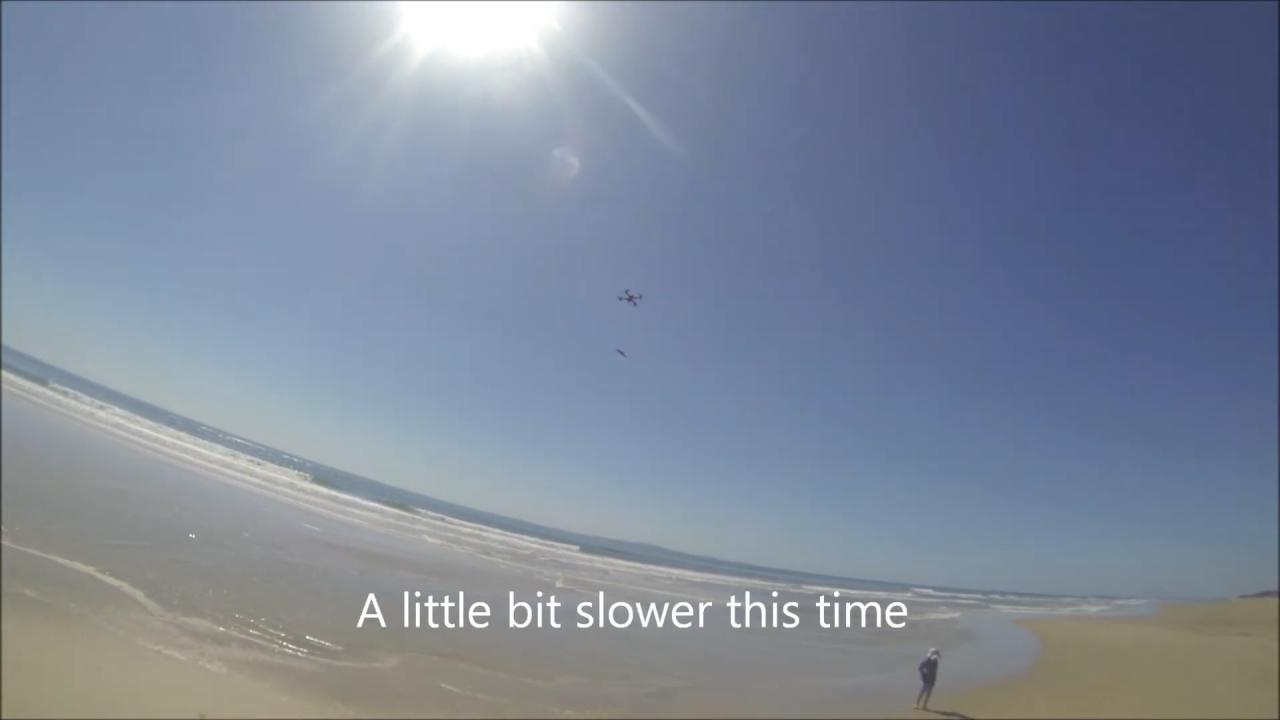Drone: (611, 283, 652, 312)
